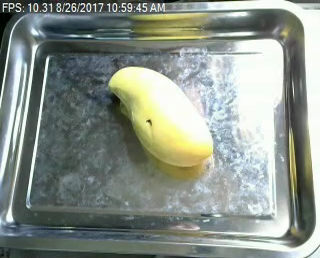Mango: (106, 61, 220, 170)
